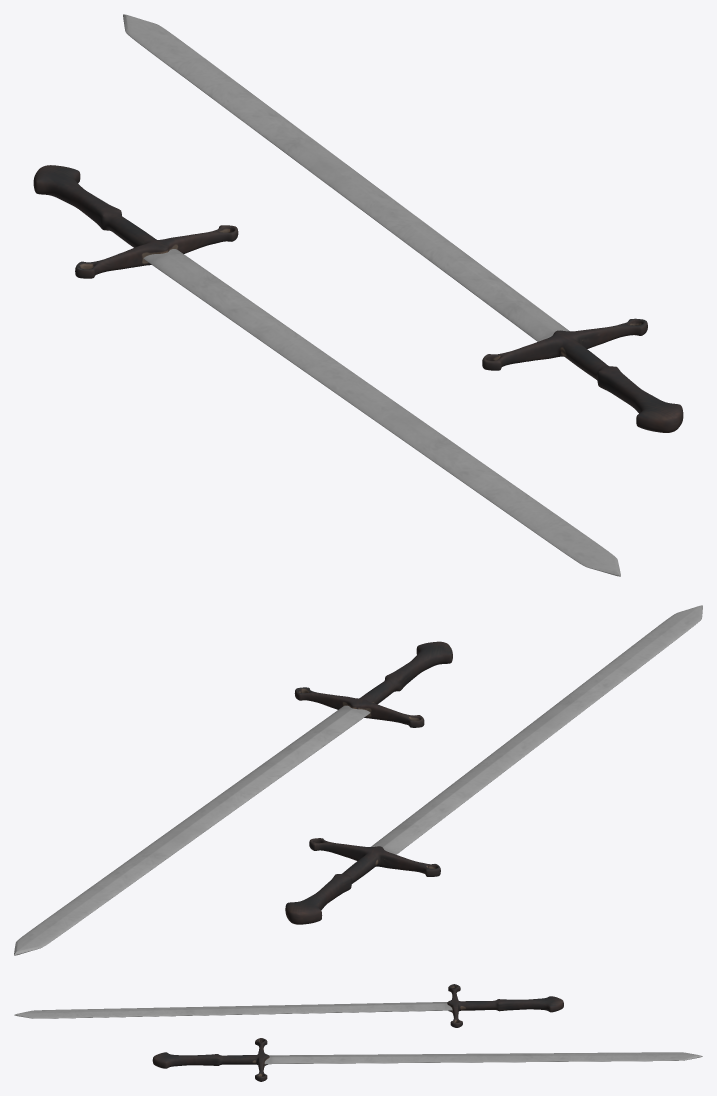
The model's file is soul-armament-sword.glb.
3 views of the same model, one above another, from view 1: azimuth 30°, elevation 25°; view 2: azimuth 150°, elevation 25°; view 3: azimuth 270°, elevation 25° (orthographic). The views are drawn at different scales.
Visible parts, largest first — view 1: Box.013, Box.026; view 2: Box.026, Box.013; view 3: Box.026, Box.013.
Boxes of the visible parts, <box> form: Box.013: <box>33,165,620,576</box>; Box.026: <box>123,14,683,432</box>; Box.026: <box>14,641,452,955</box>; Box.013: <box>285,605,702,924</box>; Box.026: <box>152,1038,702,1081</box>; Box.013: <box>14,984,563,1027</box>.
Bounding box in the file's own units: 2.12 × 0.1332 × 6.7.
1 material, 1 textured.
